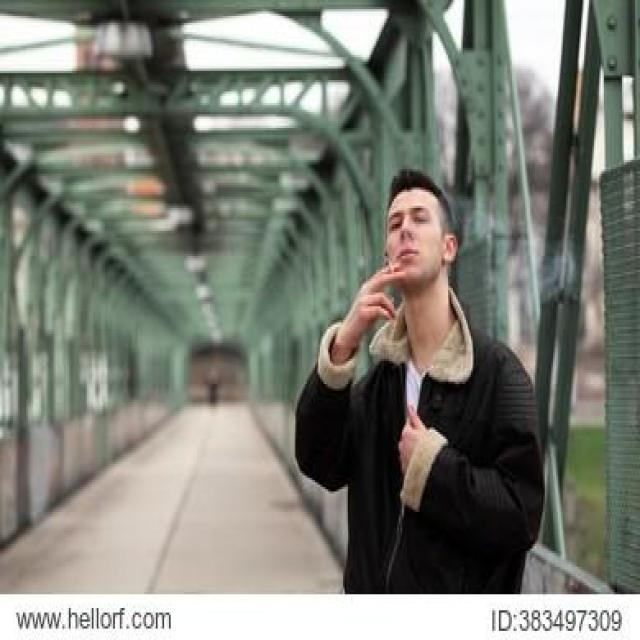Сигарета: (384, 254, 394, 279)
Тело: (294, 168, 543, 598)
